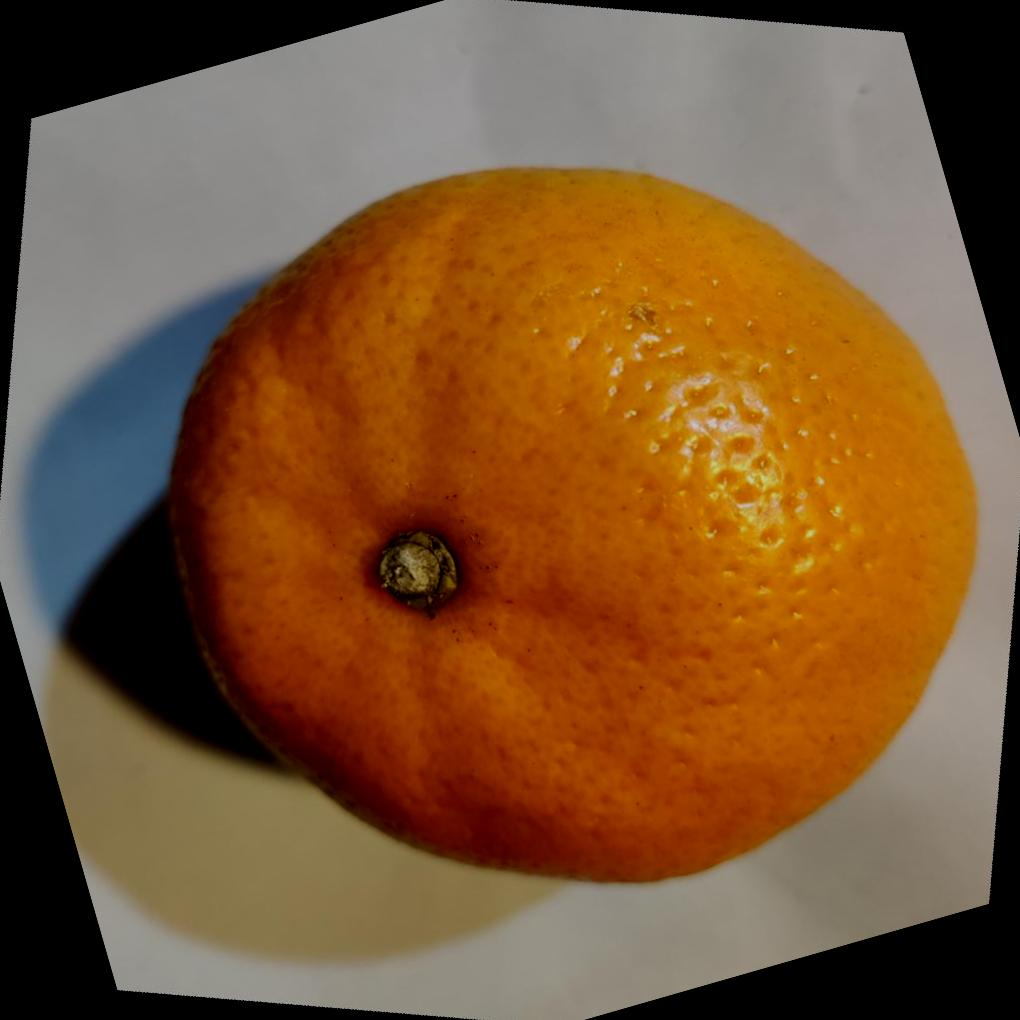FreshGuava: (164, 161, 985, 887)
